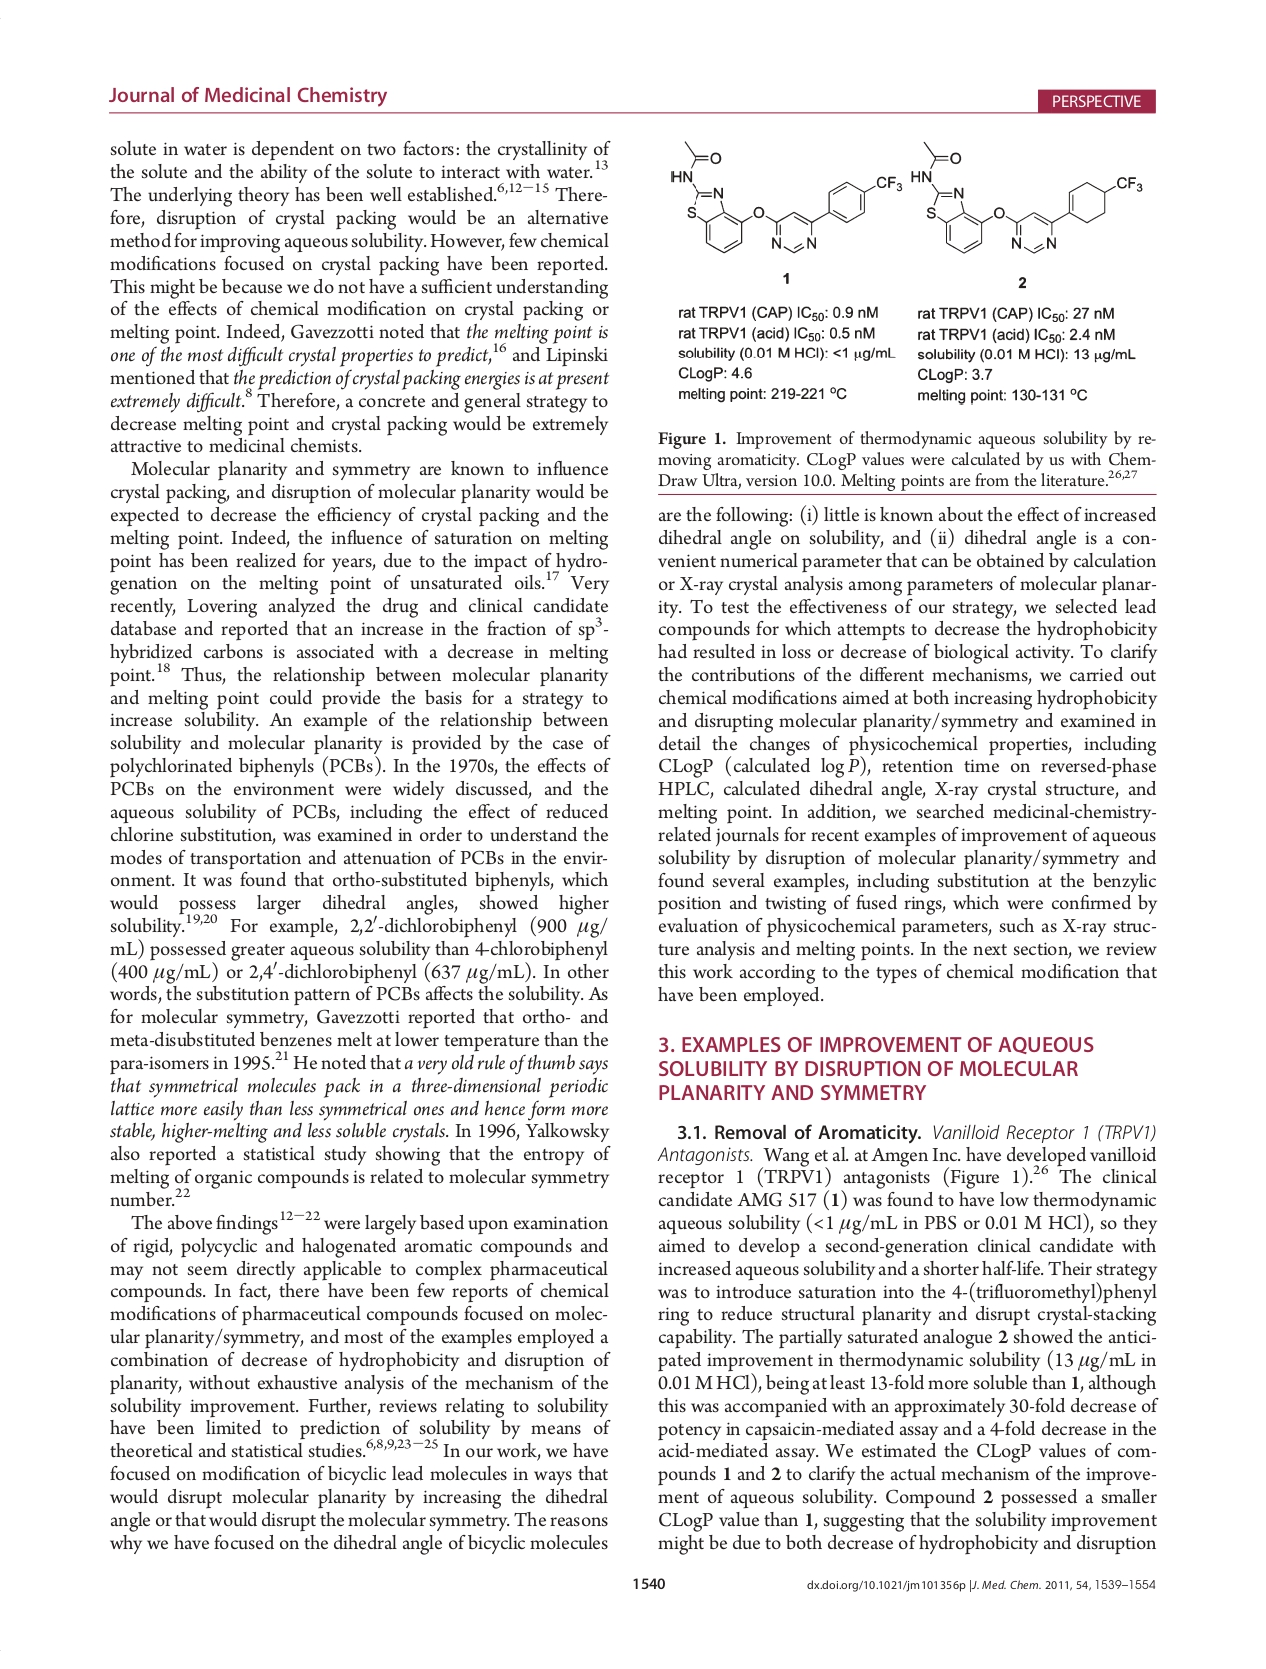exist_molecular: (664, 134, 906, 257), (907, 132, 1142, 257)
